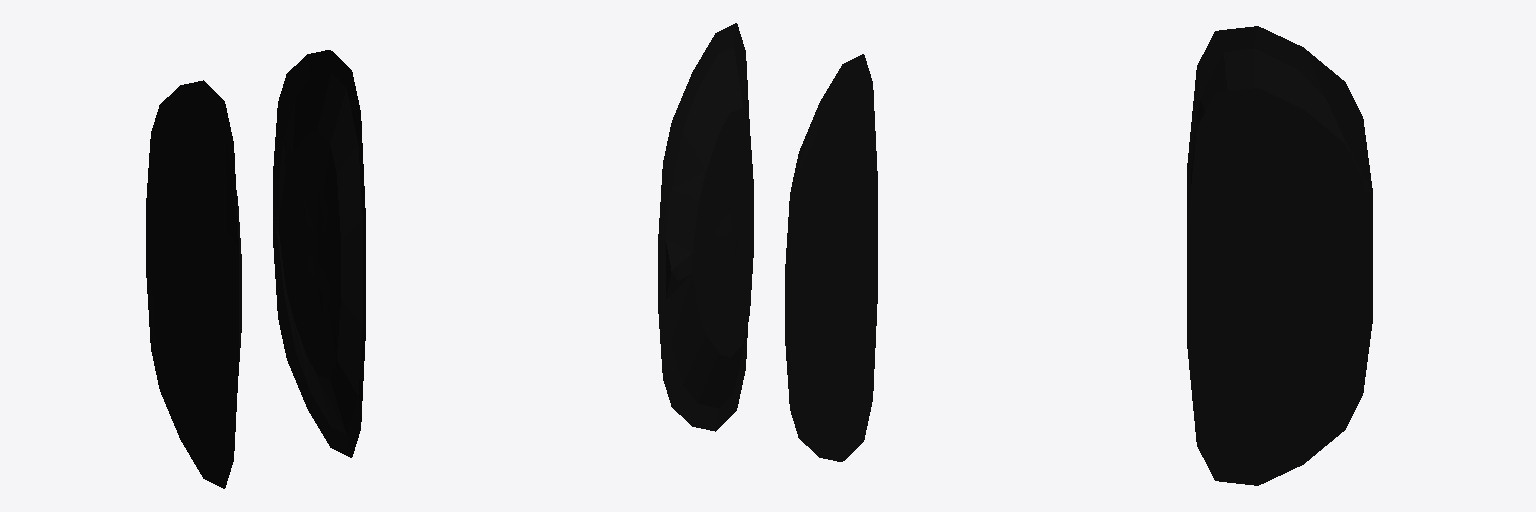
File: Play_sync.obj
3 renders of one model, left to right at view 1: azimuth 30°, elevation 25°; view 2: azimuth 150°, elevation 25°; view 3: azimuth 270°, elevation 25°, orthographic.
Parts seen in each view (by area): view 1: PlaySync_Cube.012; view 2: PlaySync_Cube.012; view 3: PlaySync_Cube.012.
Part boxes in pixels (left/top/right/bottom): PlaySync_Cube.012: left=146, top=50, right=365, bottom=488; PlaySync_Cube.012: left=658, top=23, right=877, bottom=461; PlaySync_Cube.012: left=1187, top=26, right=1372, bottom=485.
Bounding box in the file's own units: 0.9693 × 2.85 × 1.21.